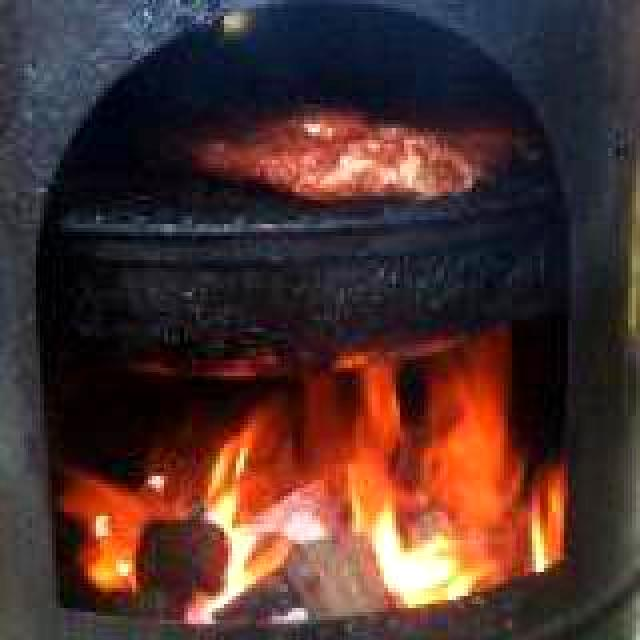fire: (52, 352, 580, 616)
